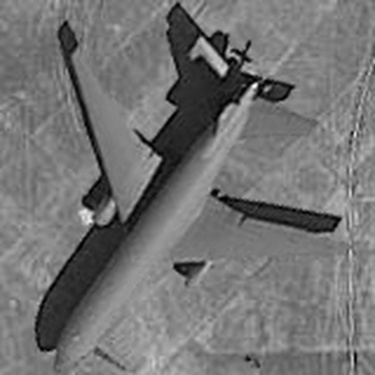airplane: (22, 5, 365, 372)
